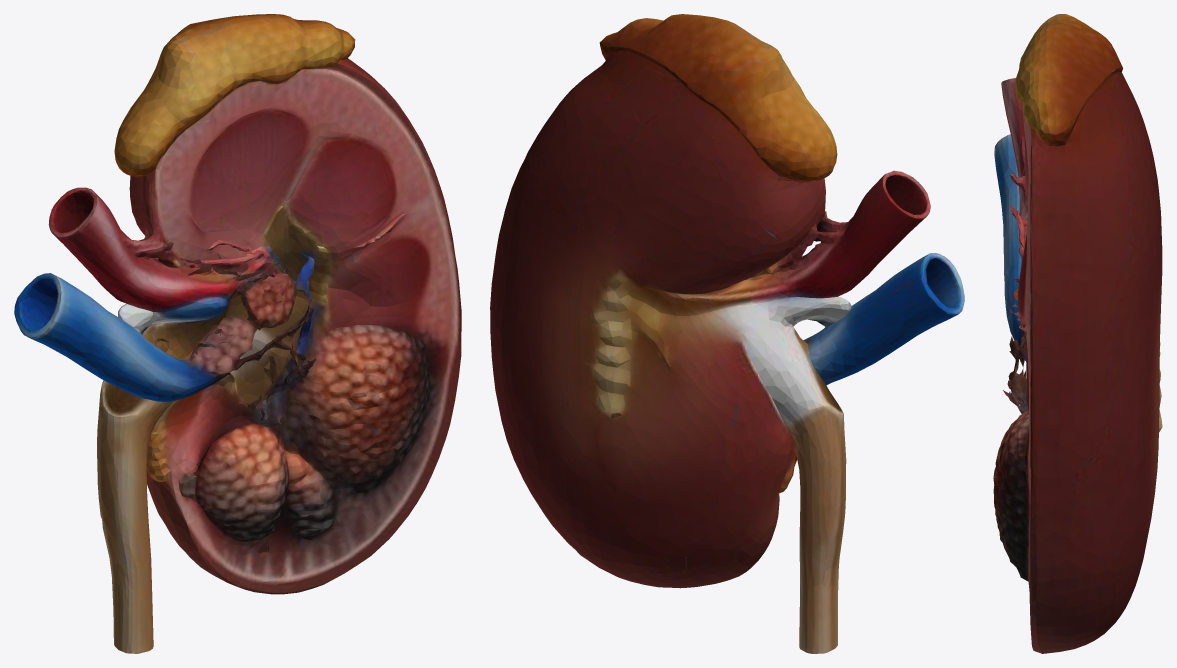
The model's file is kidney-cancer.glb.
3 renders of one model, left to right at view 1: azimuth 30°, elevation 25°; view 2: azimuth 150°, elevation 25°; view 3: azimuth 270°, elevation 25°, orthographic.
Visible parts, largest first — view 1: KidneyCancer; view 2: KidneyCancer; view 3: KidneyCancer.
Boxes of the visible parts, bbox=[...] form: KidneyCancer: bbox=[14, 14, 461, 653]; KidneyCancer: bbox=[490, 14, 964, 653]; KidneyCancer: bbox=[993, 14, 1162, 653].
Size of the model in its own units: 0.7706 by 1 by 0.2539.
1 material, 1 textured.
